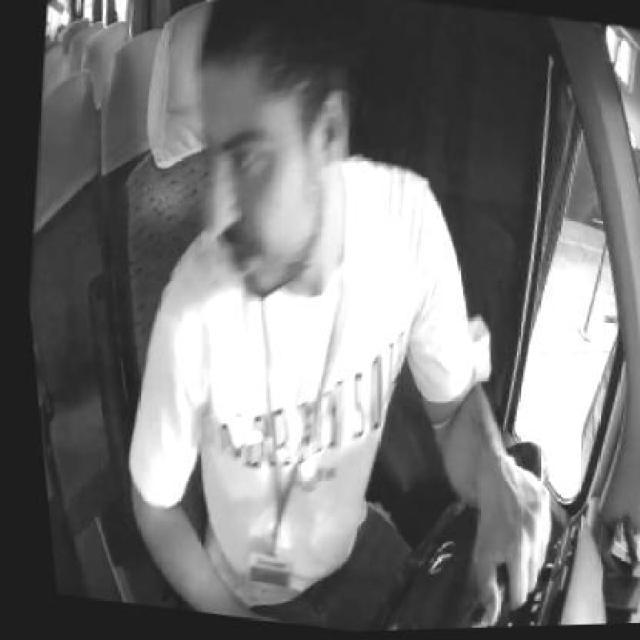Inattentive: (196, 0, 351, 302)
